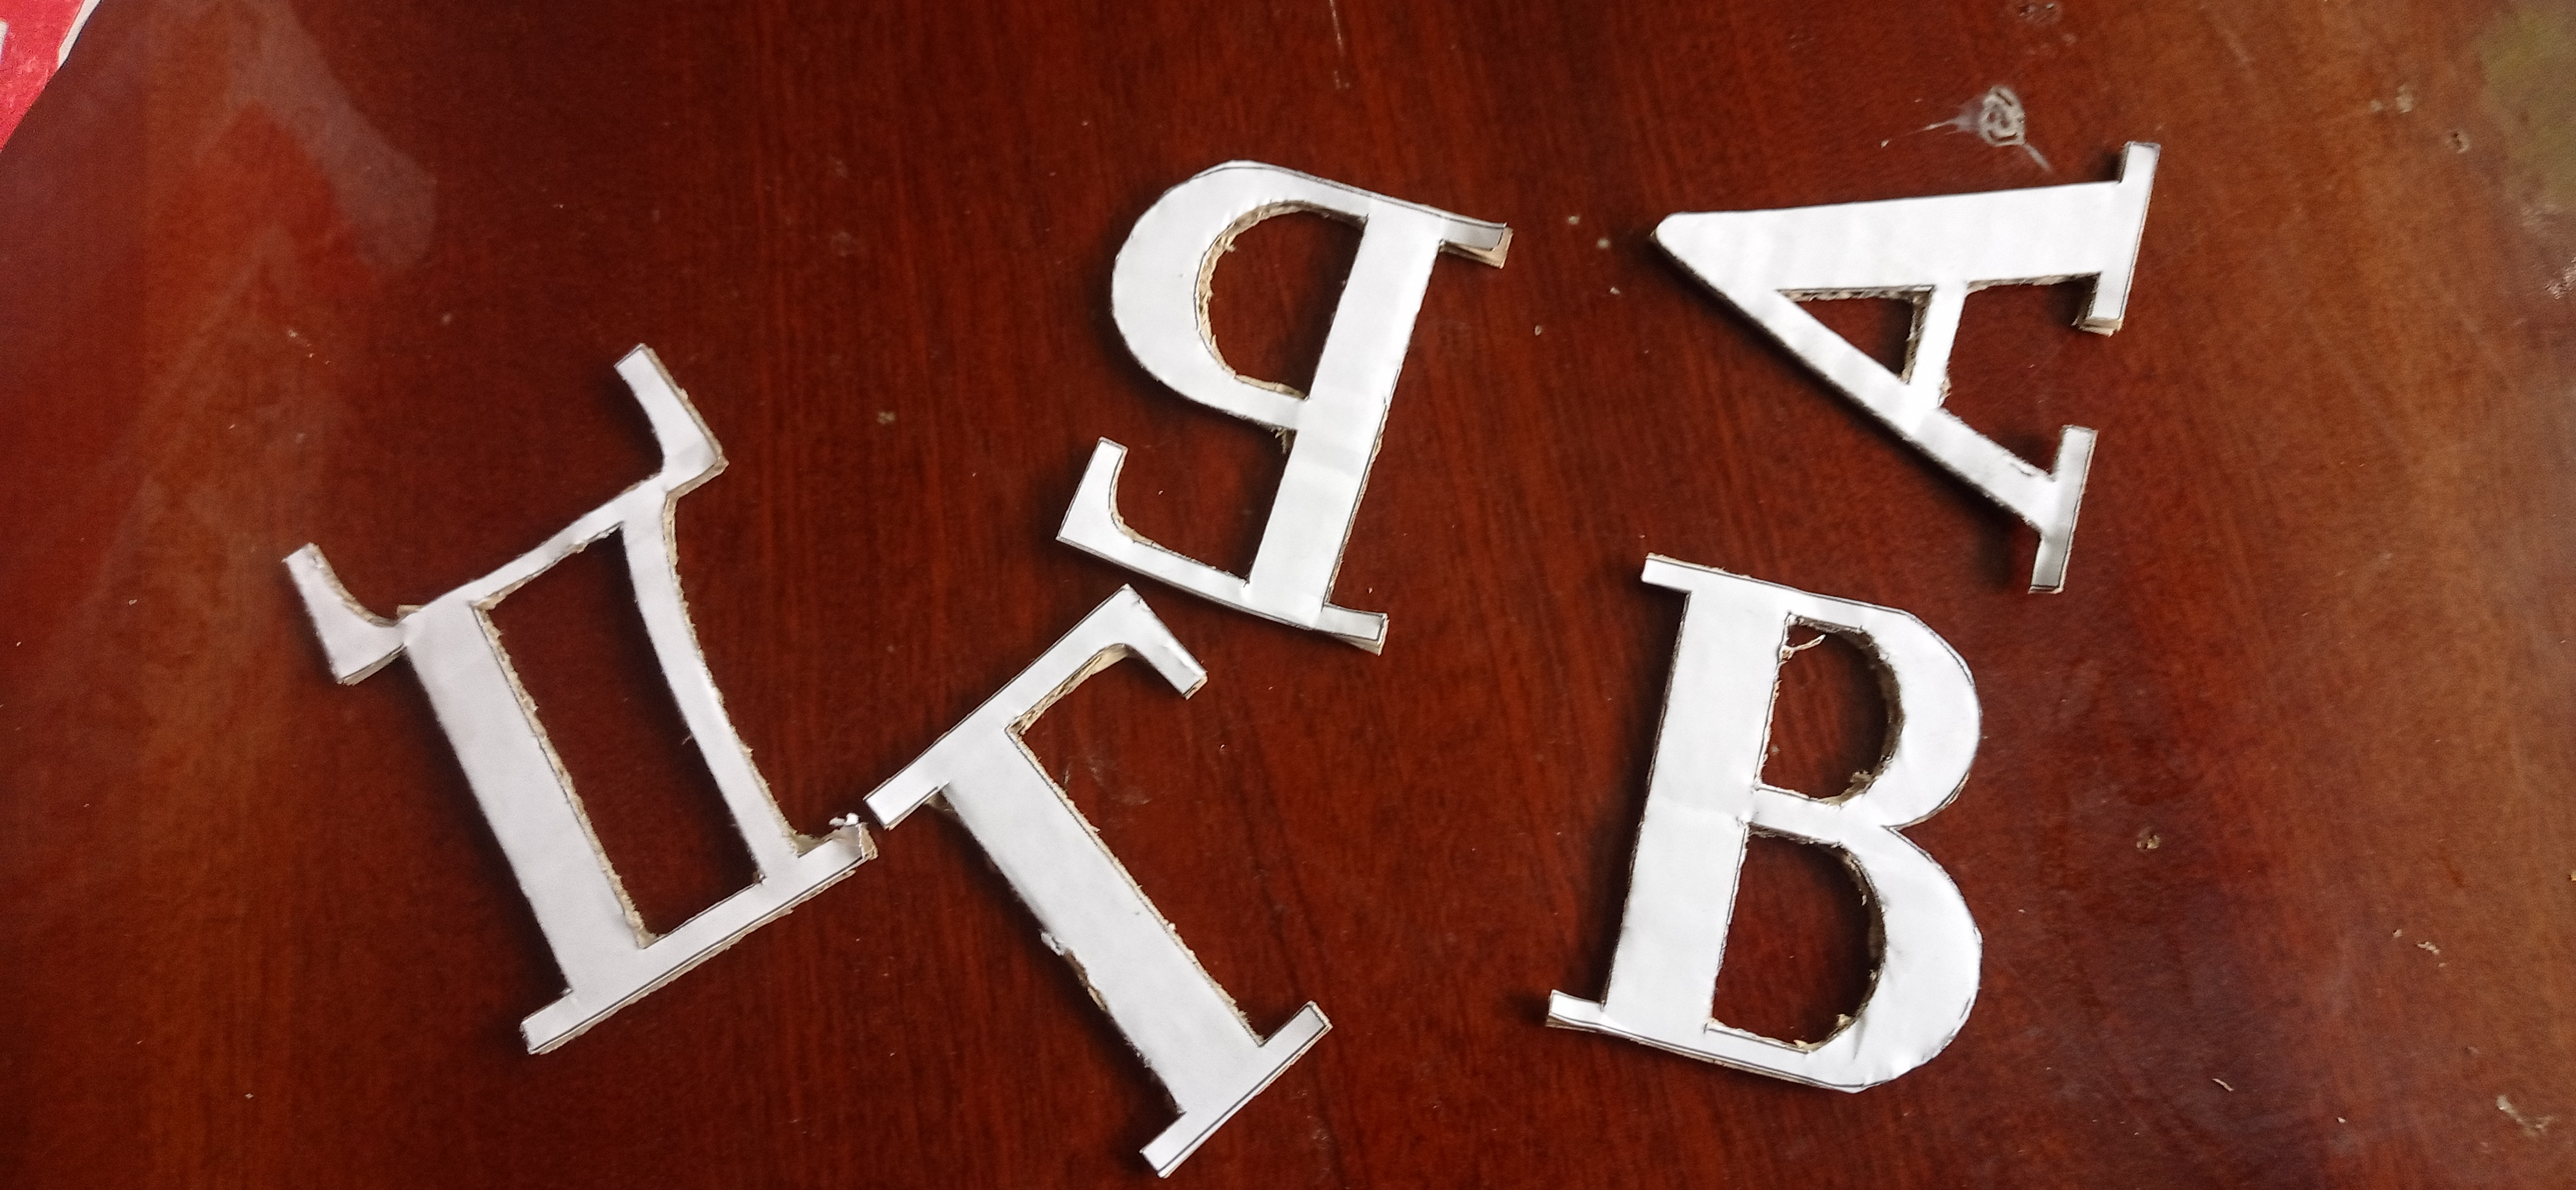a: (1653, 141, 2165, 598)
b: (1056, 159, 1511, 656)
d: (279, 335, 876, 1057)
g: (861, 587, 1332, 1183)
v: (1543, 549, 1985, 1096)
